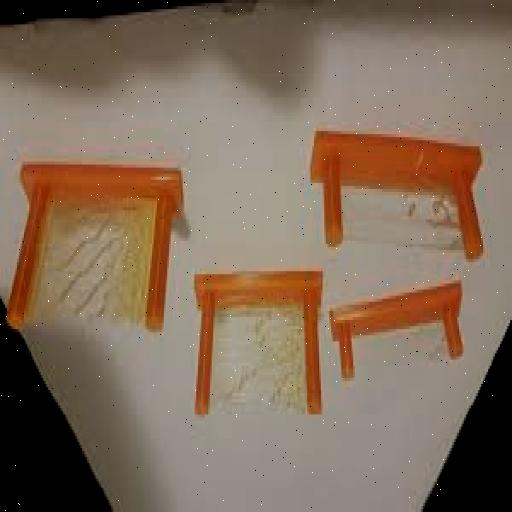stringing: (86, 210, 150, 310), (236, 308, 300, 406)
